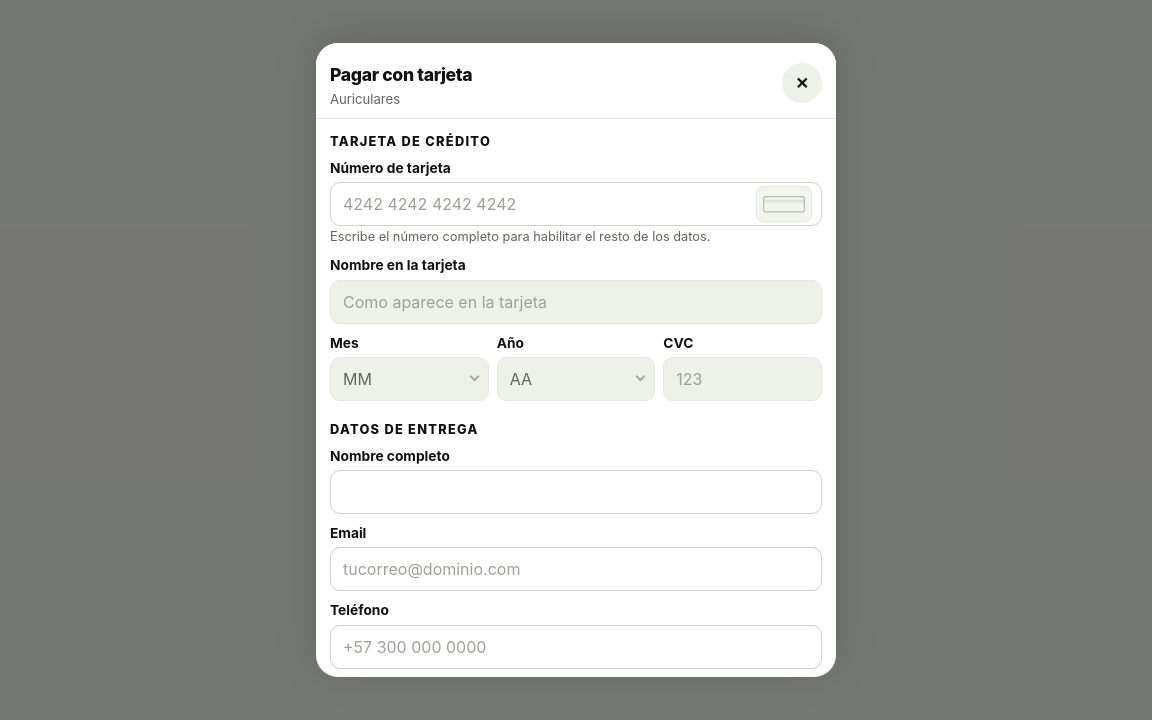
Test: CheckoutModal › closes the open list with Escape without closing the modal
The image size is (1152, 720).
Type "4242424242424242" into the field named "cardNumber" at (576, 204), box [330,182,822,226]
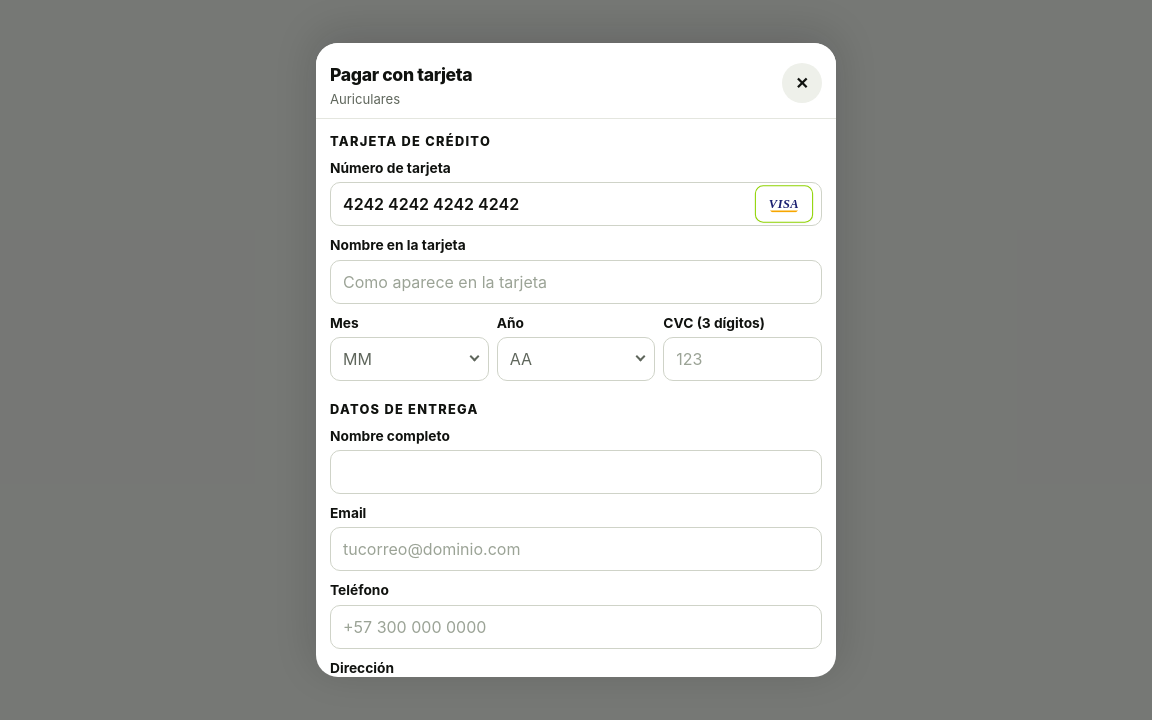
Click the dropdown labelled "MM" at (409, 359), box [330,337,489,381]
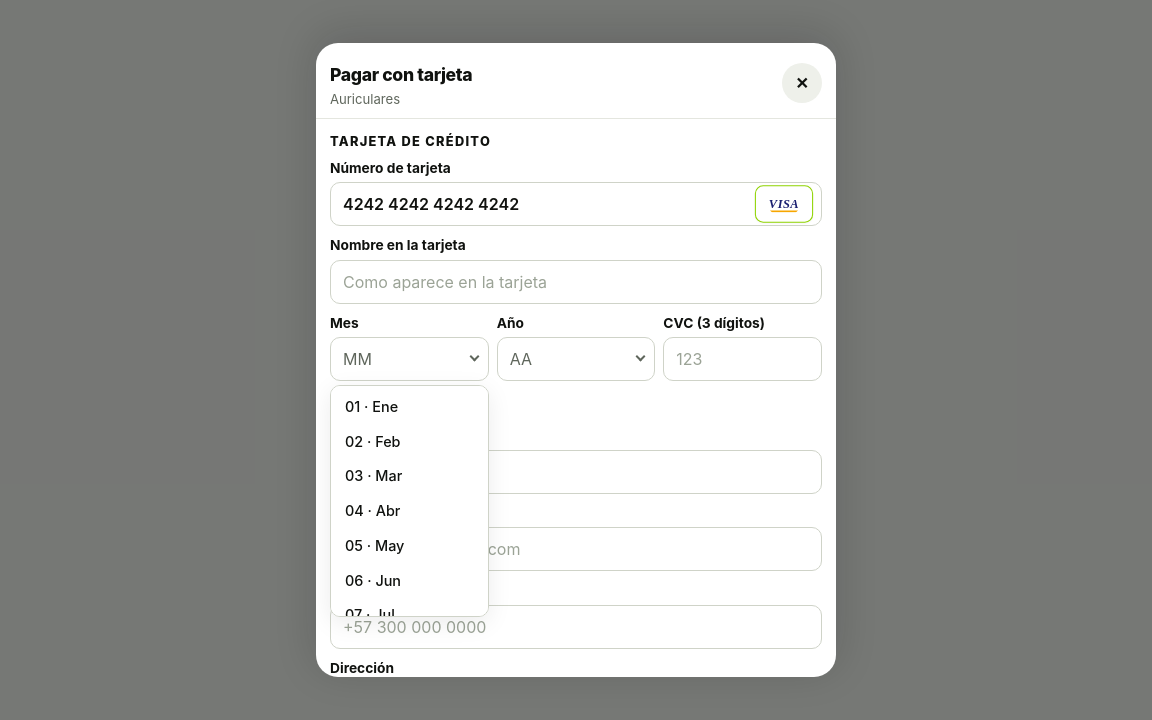
Result: the option "01 · Ene" is shown at [345,398,398,415]
Press Escape in the dropdown labelled "MM", box [330,337,489,381]
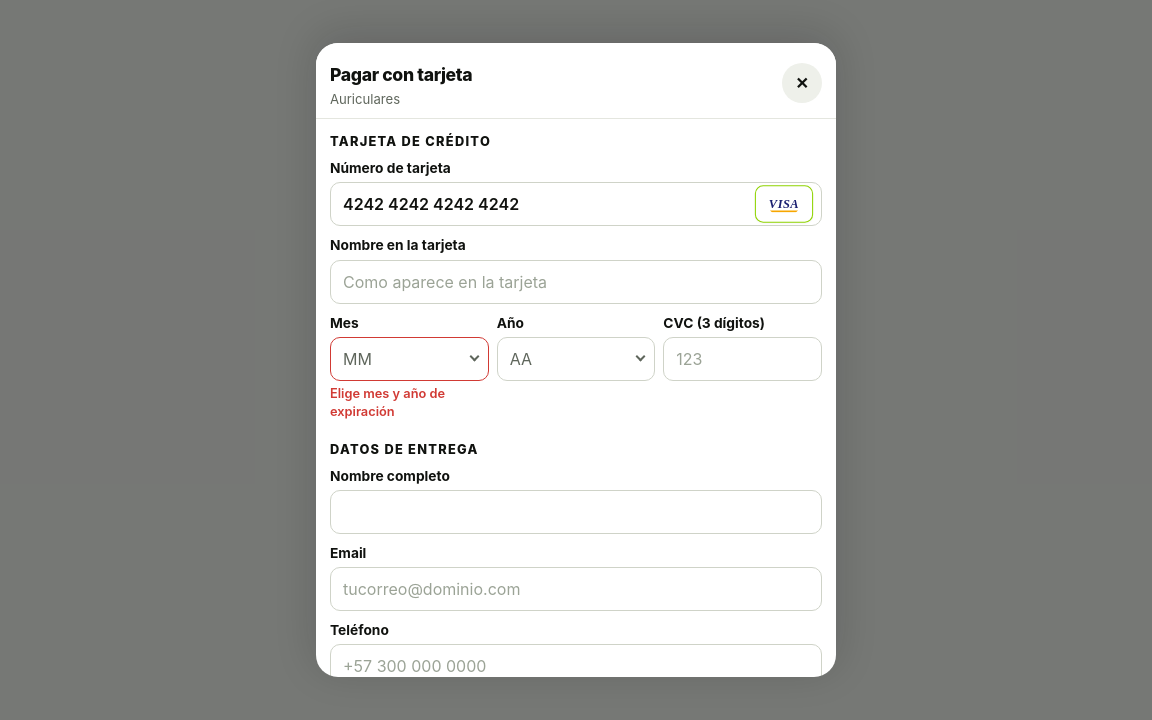
Result: no options are shown
